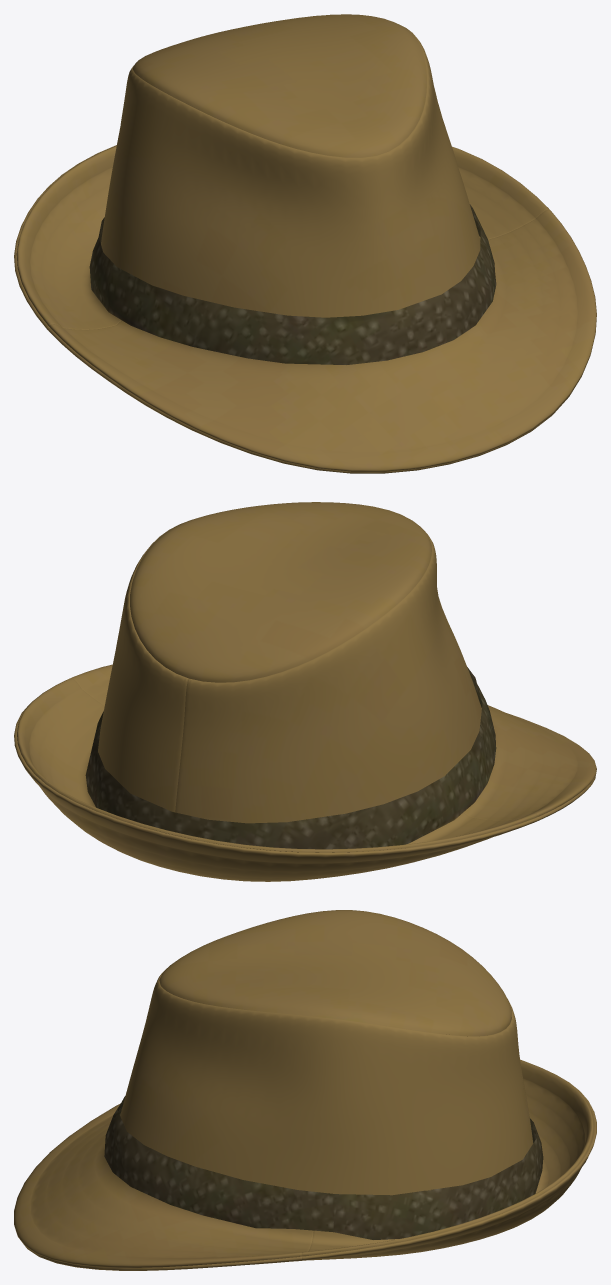
File: elvs-male-trilby-hat.glb
The picture shows the model from 3 angles, top to bottom: view 1: azimuth 30°, elevation 25°; view 2: azimuth 150°, elevation 25°; view 3: azimuth 270°, elevation 25°; orthographic projection. The views are drawn at different scales.
Parts seen in each view (by area): view 1: Human.elvs_male_trilby_hat; view 2: Human.elvs_male_trilby_hat; view 3: Human.elvs_male_trilby_hat.
Boxes of the visible parts, x1,y1,x2,y2 form: Human.elvs_male_trilby_hat: [14, 14, 596, 473]; Human.elvs_male_trilby_hat: [14, 502, 596, 881]; Human.elvs_male_trilby_hat: [14, 910, 596, 1270].
Size of the model in its own units: 0.2875 by 0.1584 by 0.3164.
Materials: 1 (1 with a texture image).
